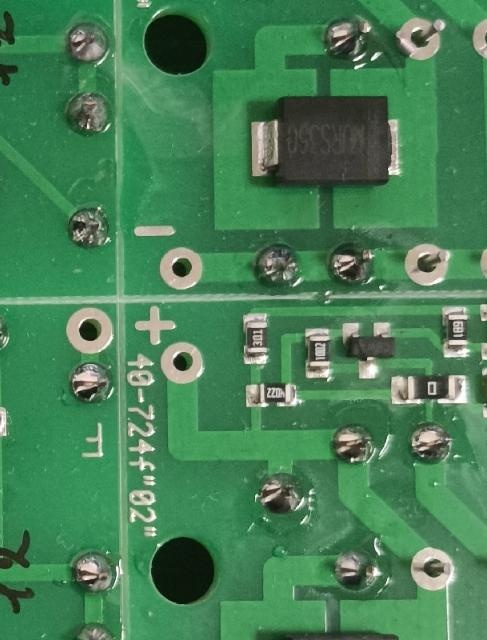chip-resistor: (390, 372, 470, 407), (439, 304, 471, 359), (241, 311, 271, 366), (305, 326, 333, 383), (245, 382, 301, 410)
diode: (247, 95, 403, 188)
transistor: (340, 320, 397, 381)
